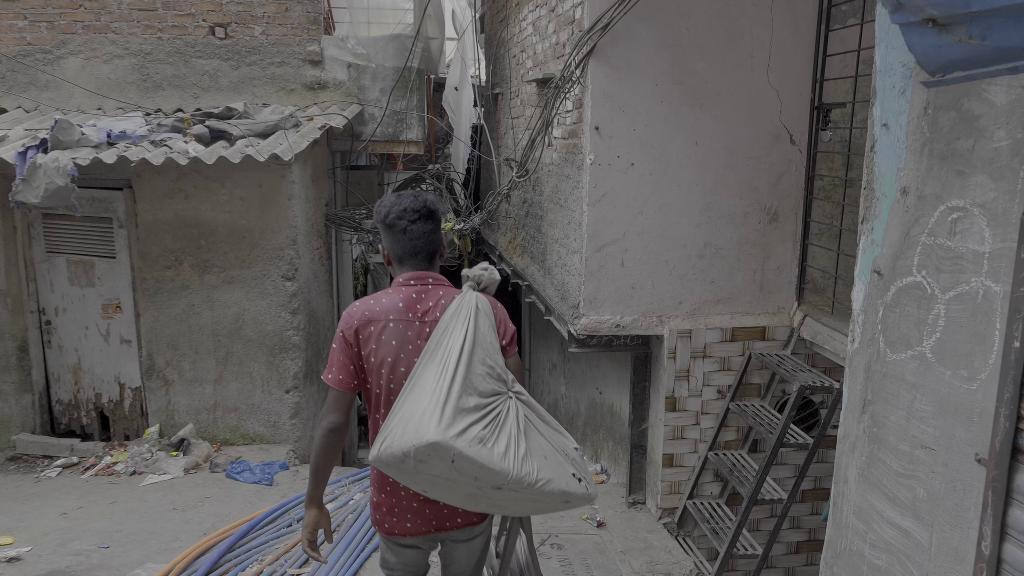garbage: (227, 454, 288, 492), (136, 445, 202, 478), (43, 455, 84, 479), (143, 421, 162, 440)
